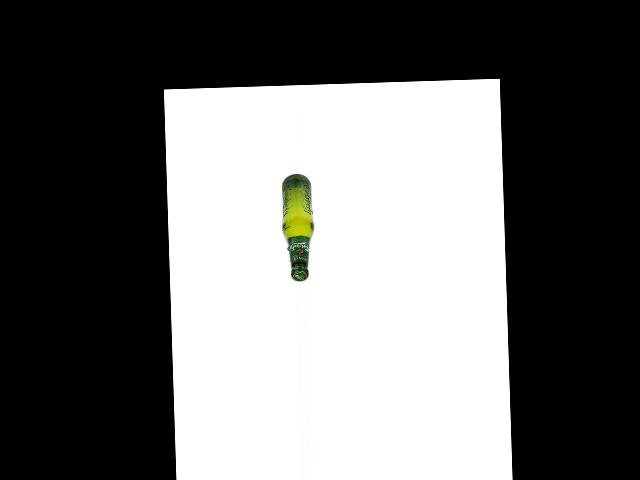beer: (280, 173, 314, 281)
